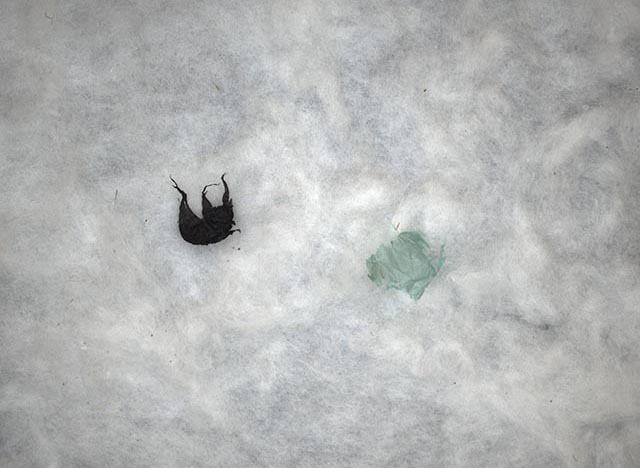plastic film: (362, 230, 447, 299), (166, 171, 240, 247)
